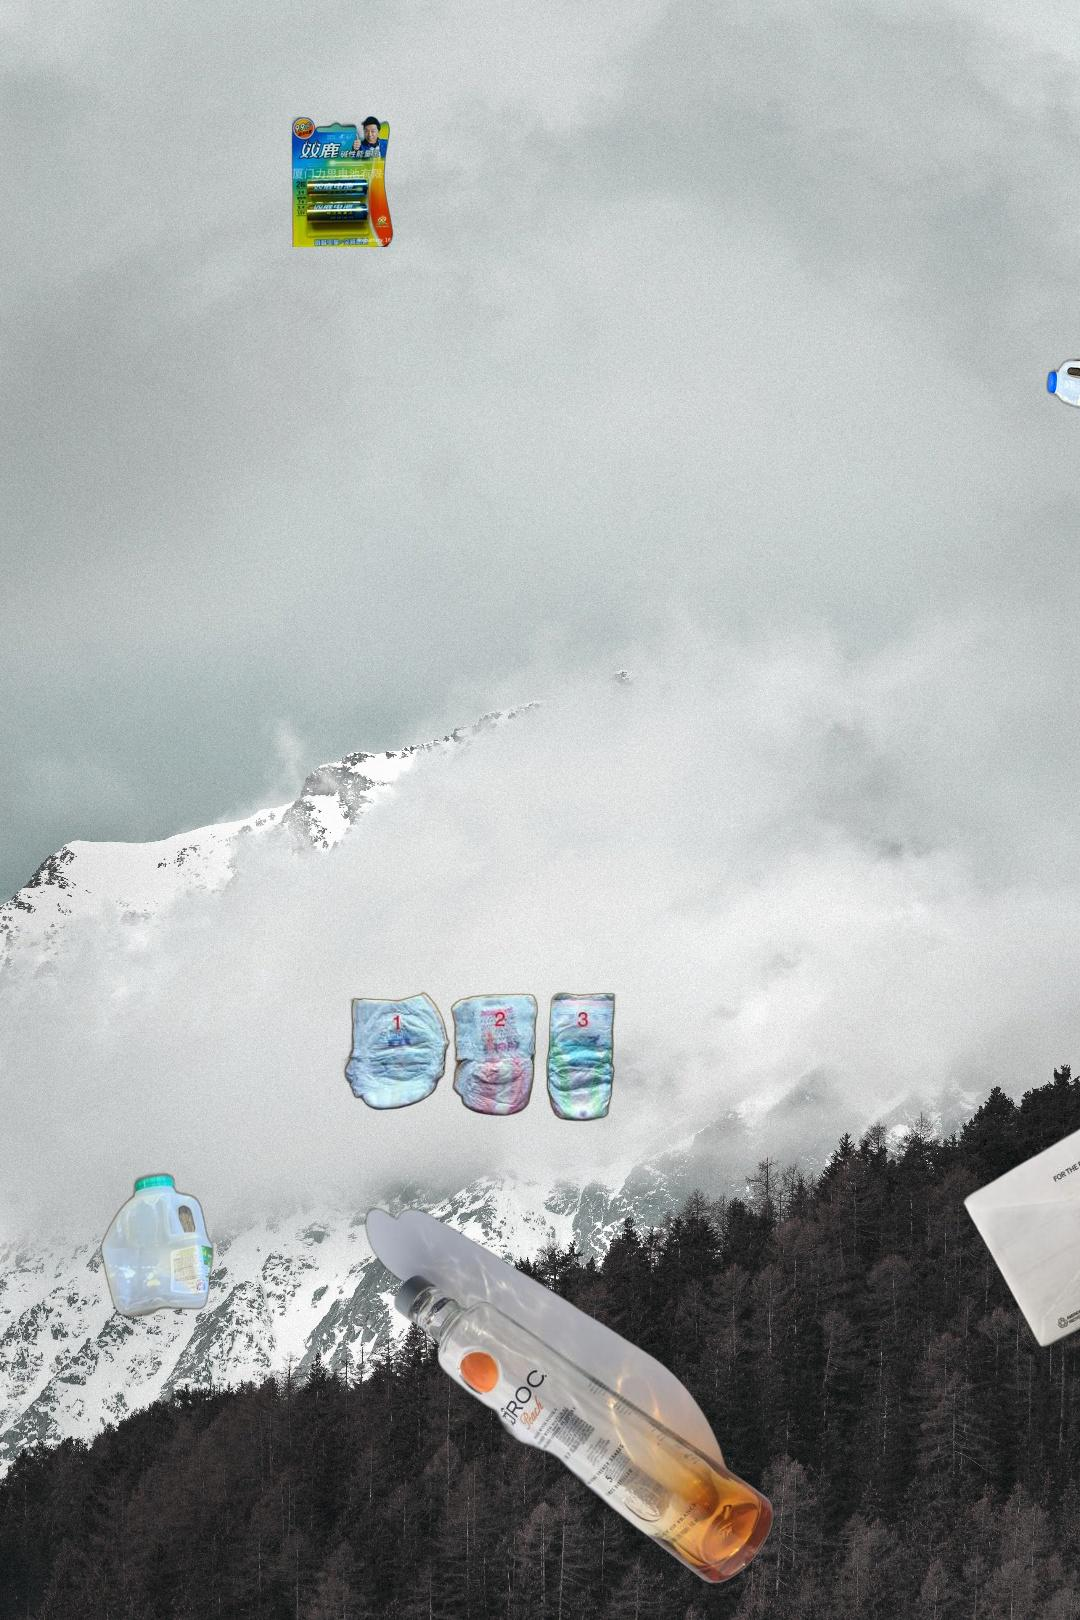battery: (289, 115, 397, 247)
glass: (360, 1207, 777, 1584)
paper: (959, 1014, 1080, 1350)
plastic-bottles: (786, 353, 1080, 769), (96, 1168, 218, 1322)
trash: (341, 990, 618, 1125)
